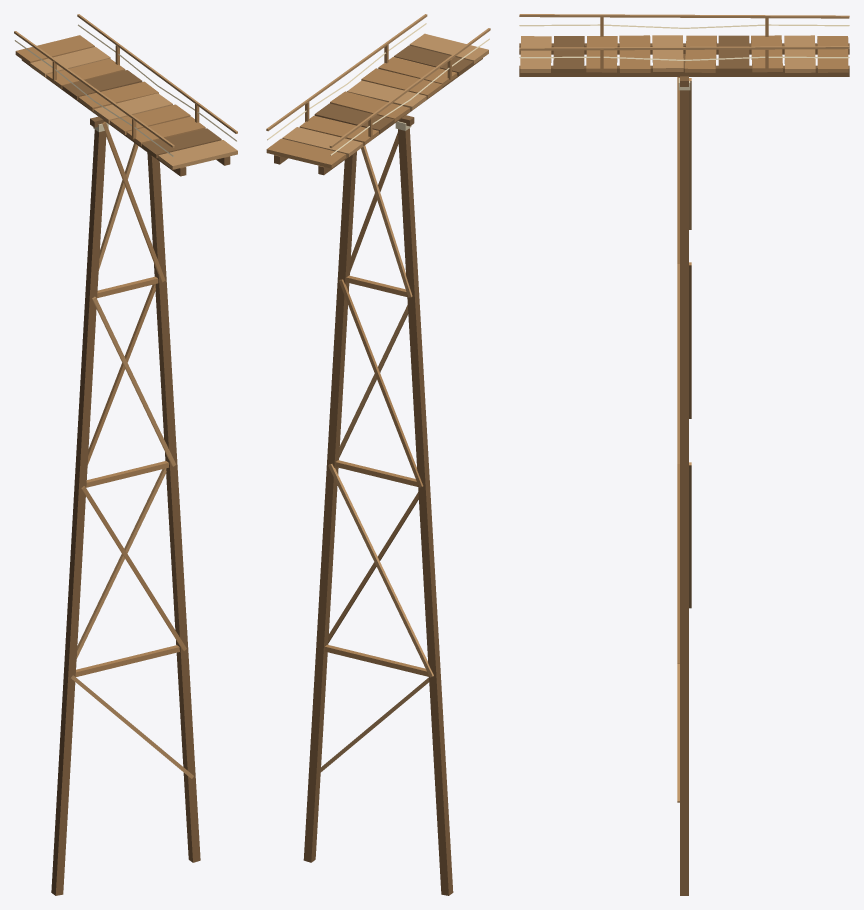
The model's file is old-bridge.glb.
The picture shows the model from 3 angles, left to right: view 1: azimuth 30°, elevation 25°; view 2: azimuth 150°, elevation 25°; view 3: azimuth 270°, elevation 25°; orthographic projection. The views are drawn at different scales.
Visible parts, largest first — view 1: old-bridge; view 2: old-bridge; view 3: old-bridge.
Part boxes in pixels (bbox=[...]): old-bridge: bbox=[14, 14, 237, 895]; old-bridge: bbox=[266, 14, 490, 895]; old-bridge: bbox=[519, 14, 849, 895].
Bounding box in the file's own units: 10.55 × 55.45 × 20.
